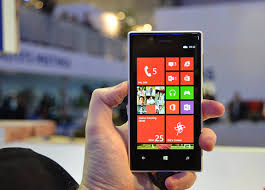nokia: (125, 27, 204, 177)
